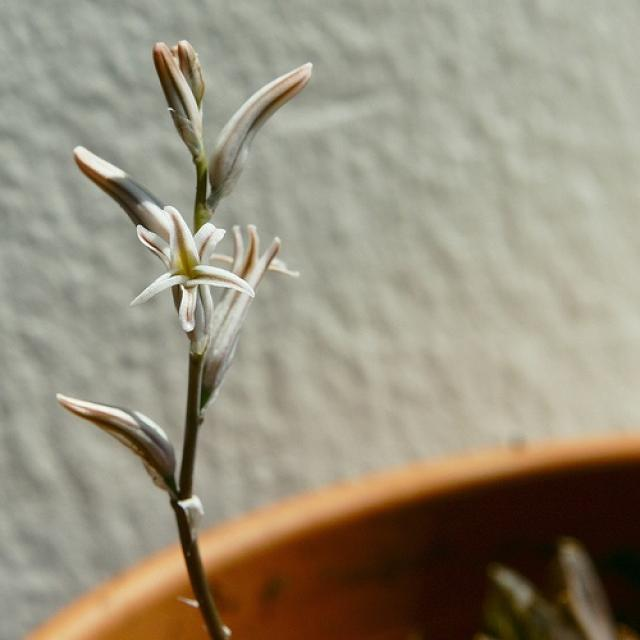pottedplant: (23, 33, 637, 636)
